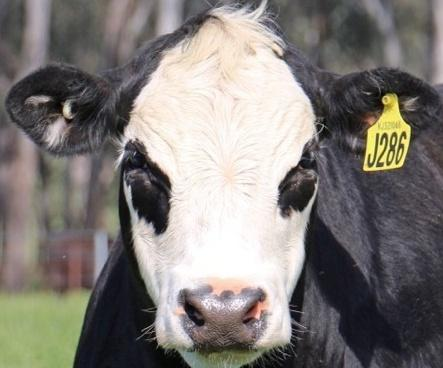muzzles: (149, 275, 298, 368)
